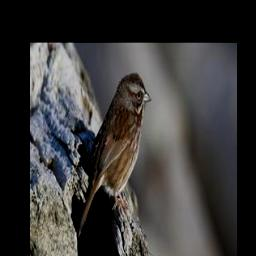Sparrow: (77, 72, 152, 240)
